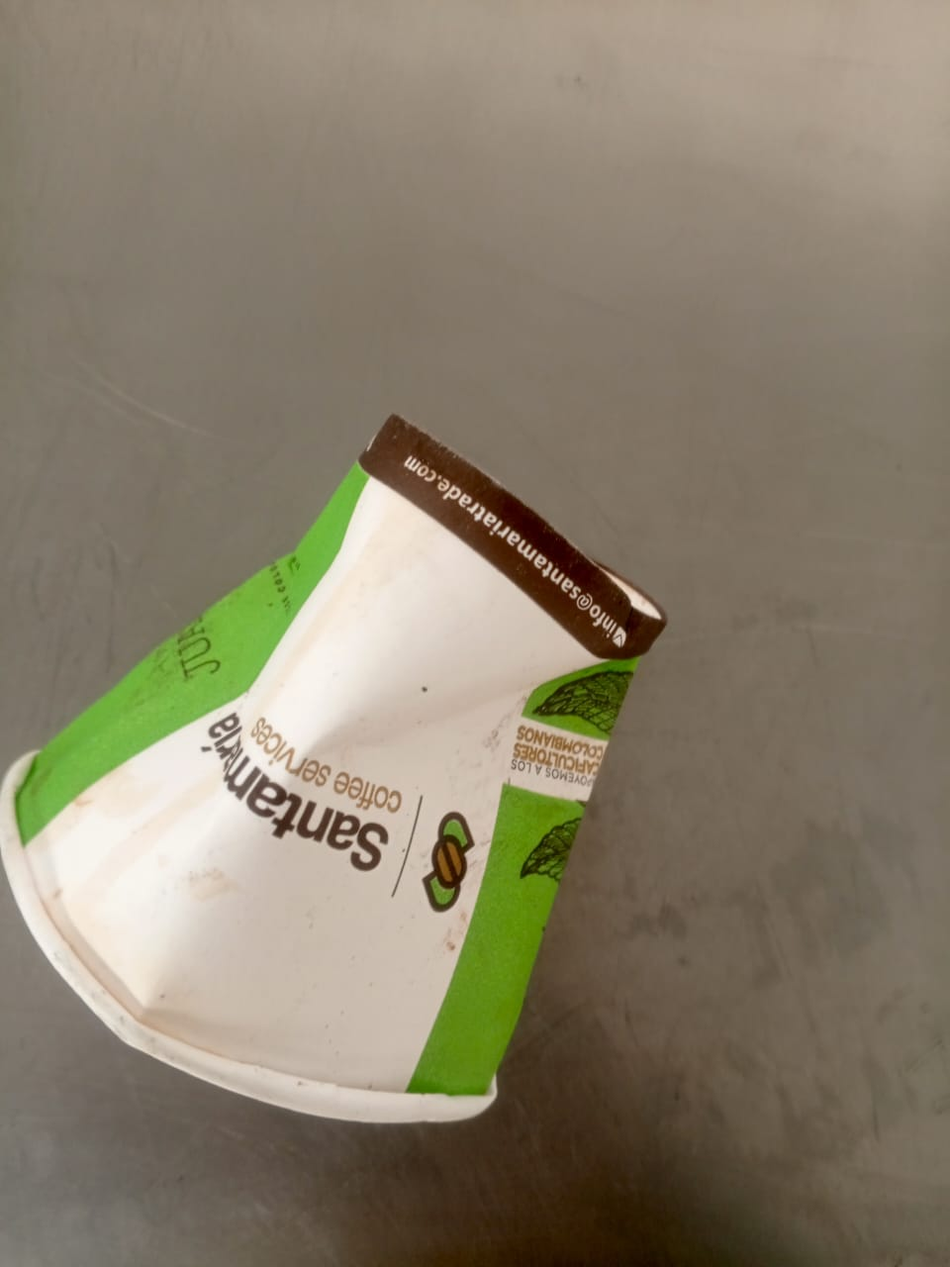Carton: (0, 412, 664, 1127)
